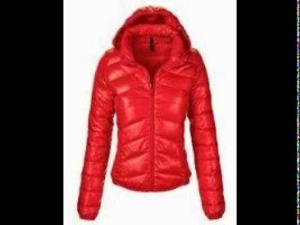C_jacket: (71, 2, 237, 222)
